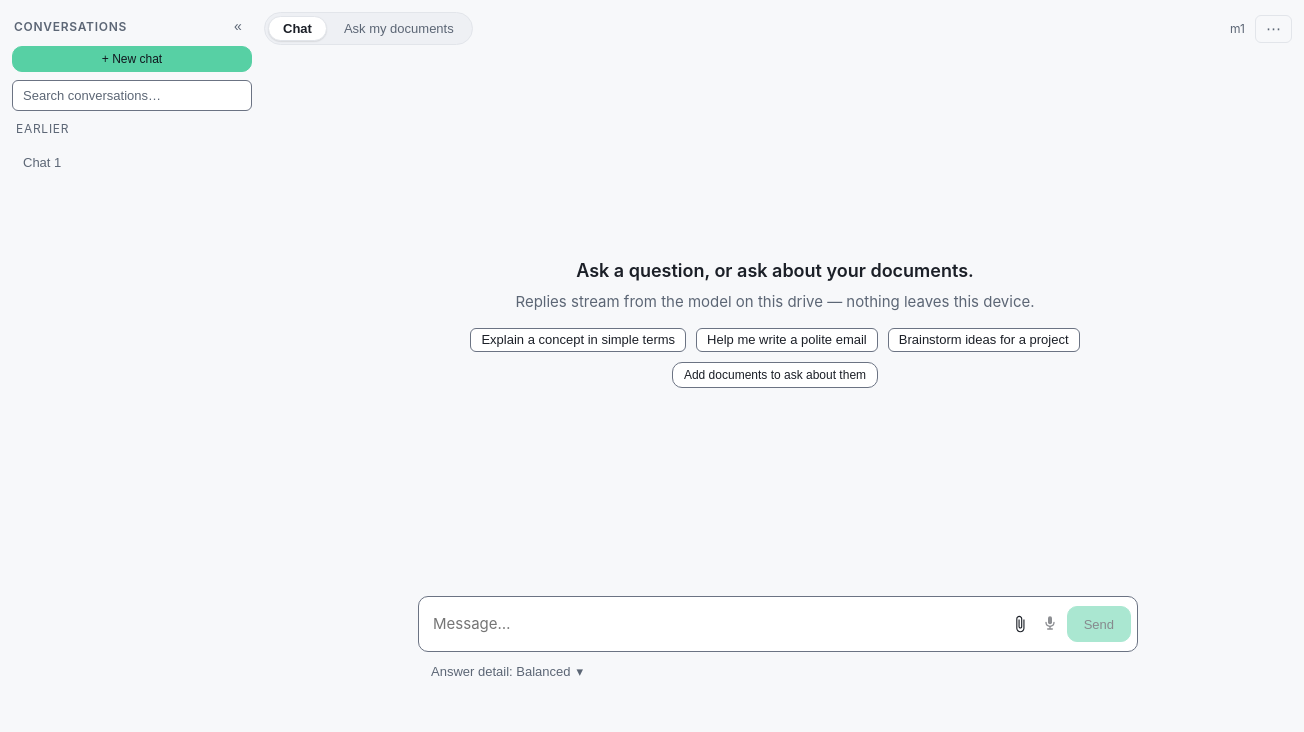
it: ChatScreen — Stop confirmation (M-U2) › toasts a "Stopped" confirmation when the user stops a live stream
The width and height of the screenshot is (1304, 732).
Expected: the text "Chat 1" is shown, [23,154,61,170]
Click the button with class "chat-conv" at (116, 162), box [12,142,221,182]
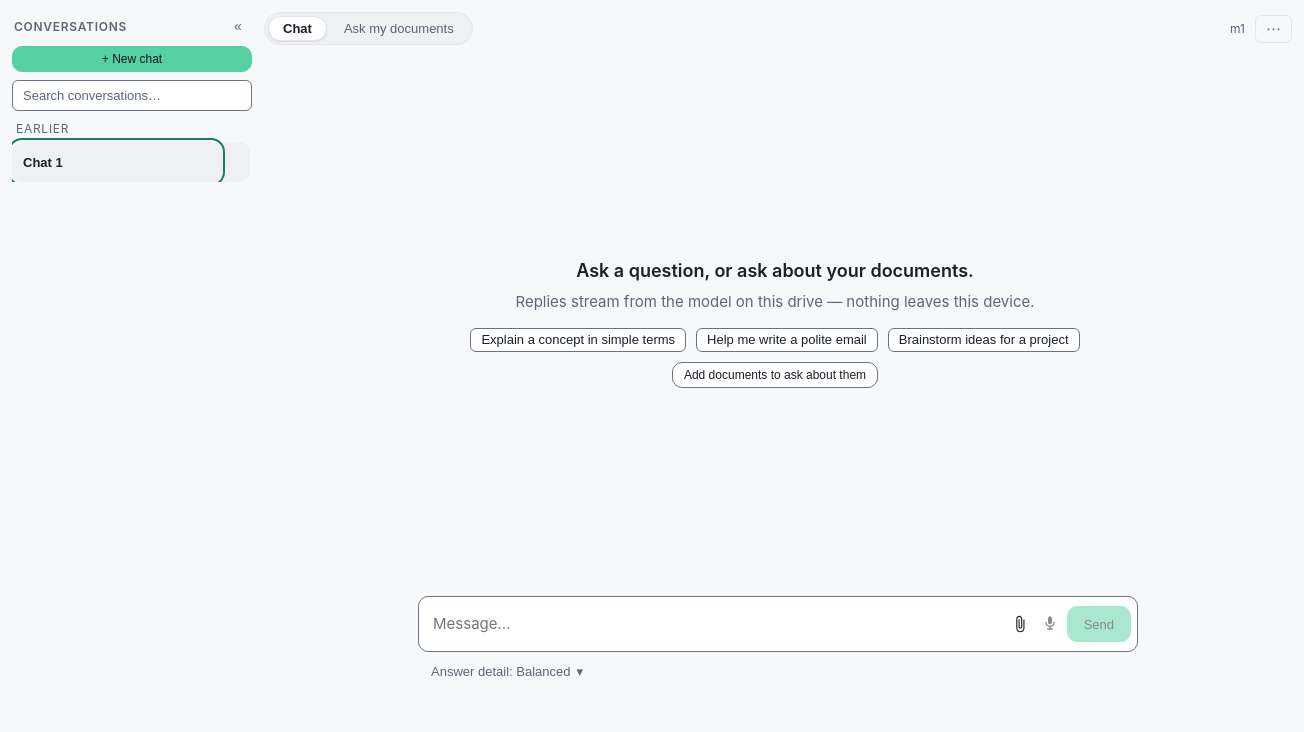
Type "hello" into the text box at (713, 624), box [423,603,1003,645]
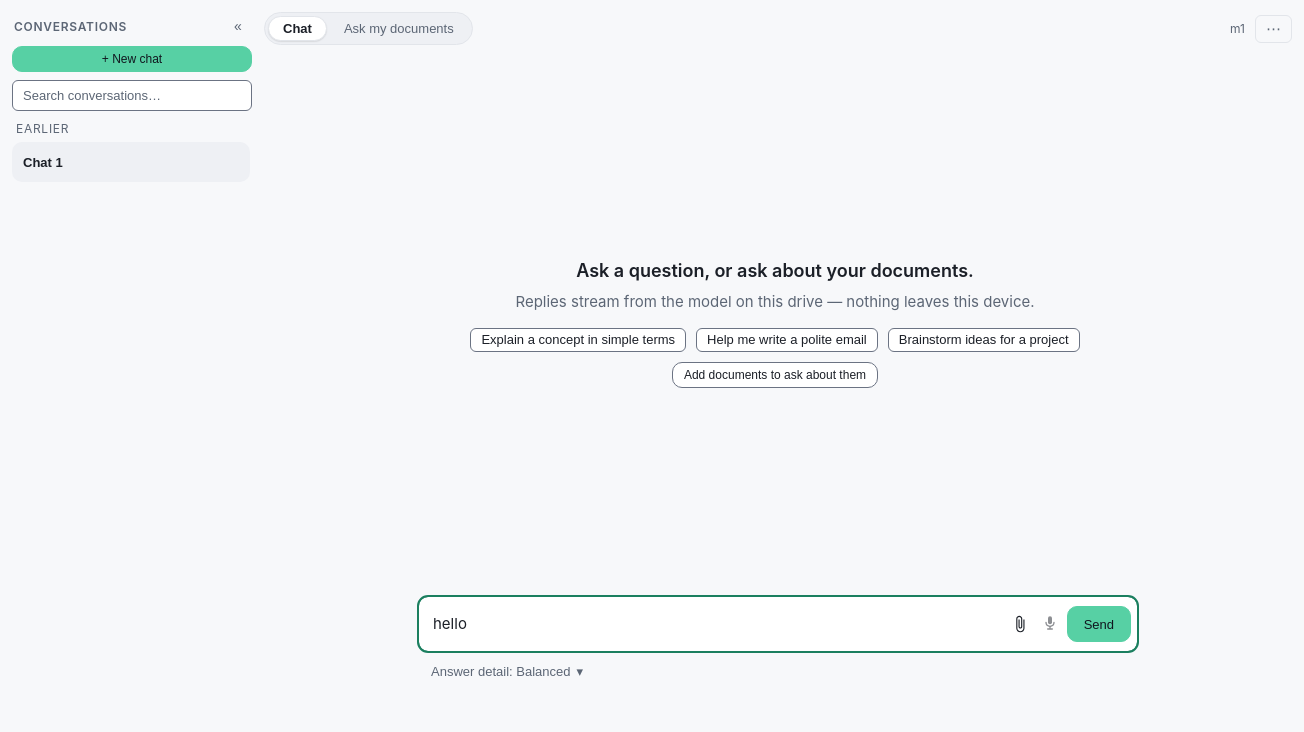
Press Enter
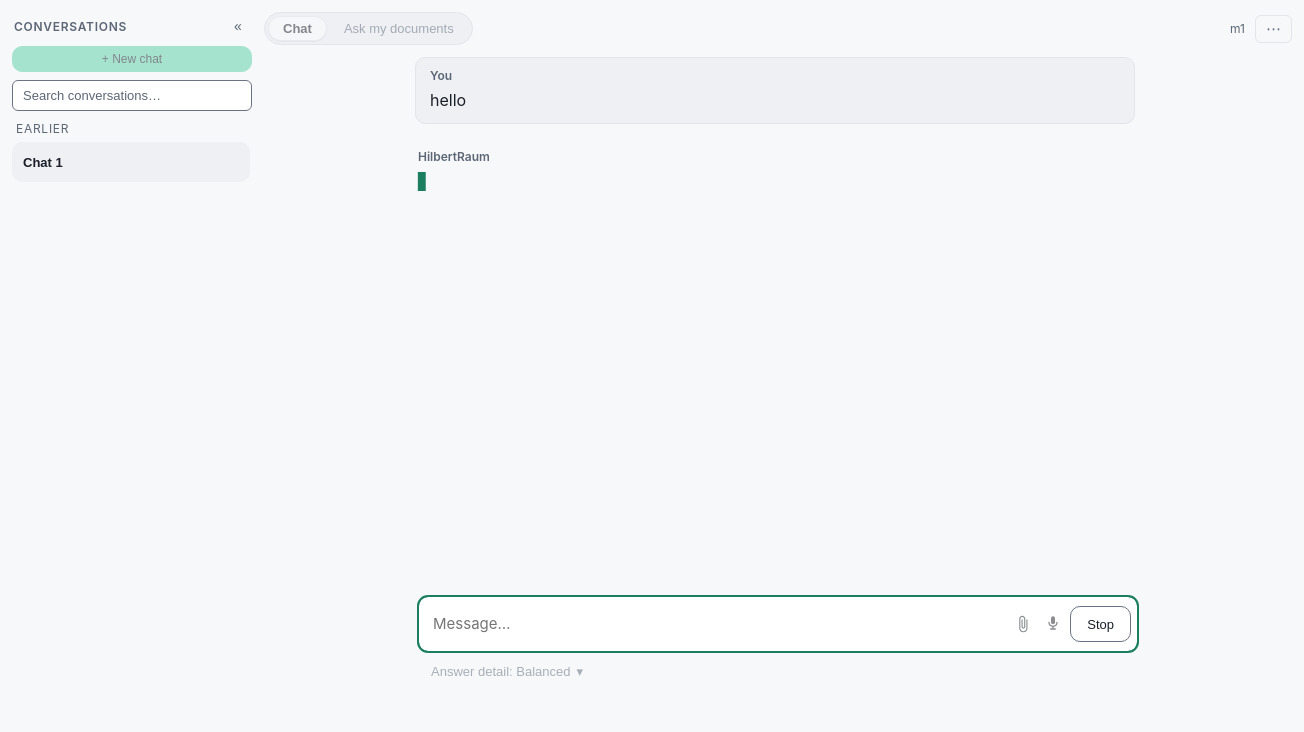
Streaming: the composer now shows Stop. Pressing it requests a stop…
Click the button "Stop" at (1101, 624), box [1070,606,1131,642]
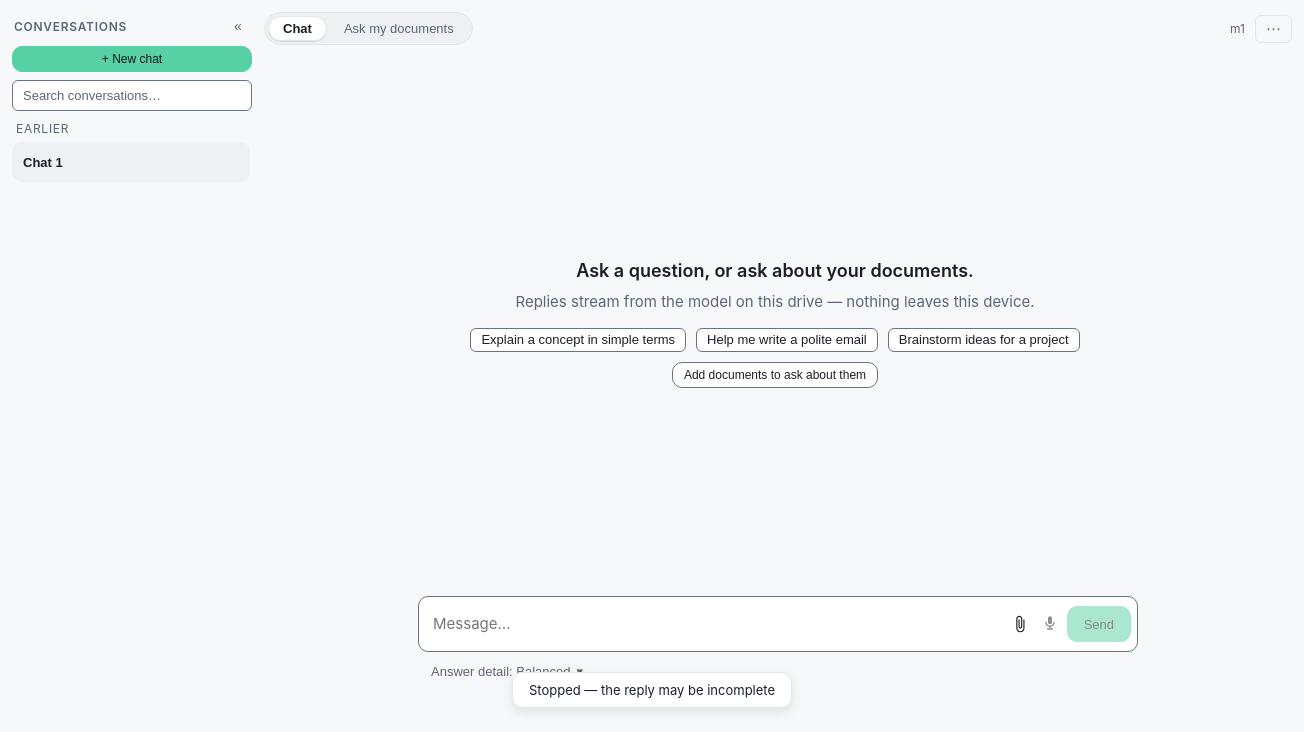
Expected: the text "Stopped — the reply may be incomplete" is shown, [512,672,792,708]
